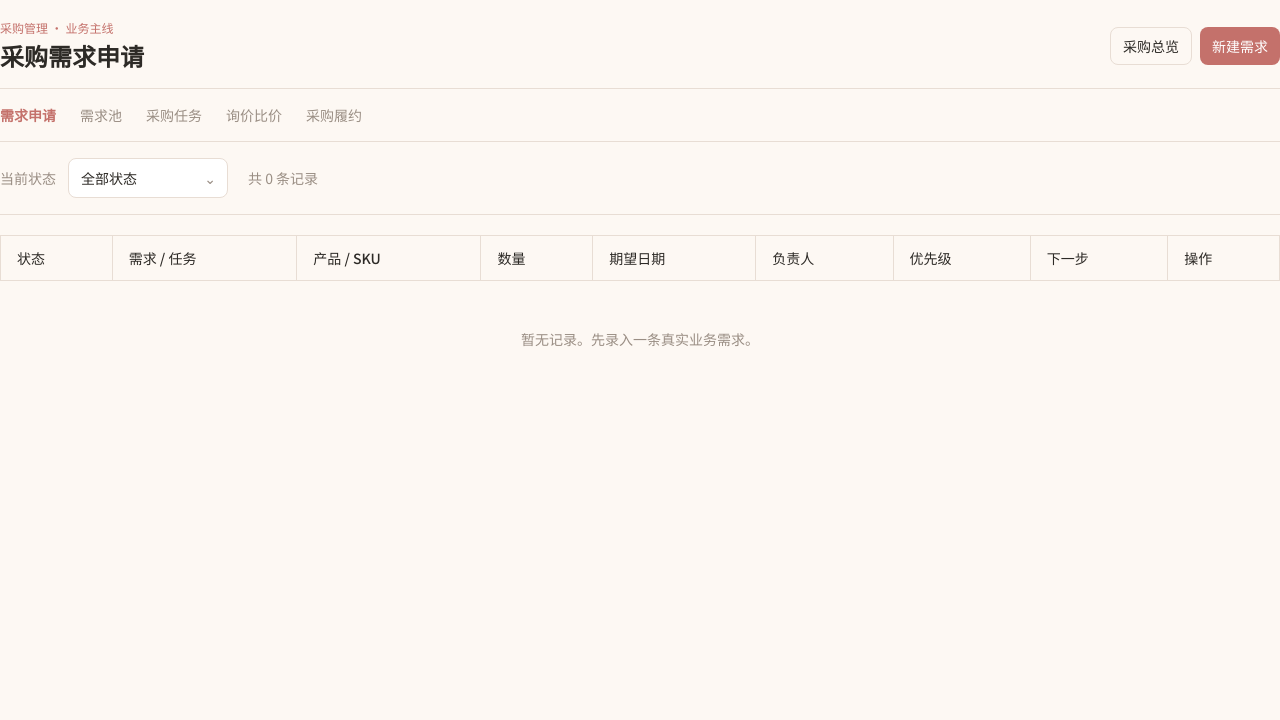
it: closes the active window when changing procurement sections
Click the button "新建需求" at (1240,46), box [1200, 27, 1279, 65]
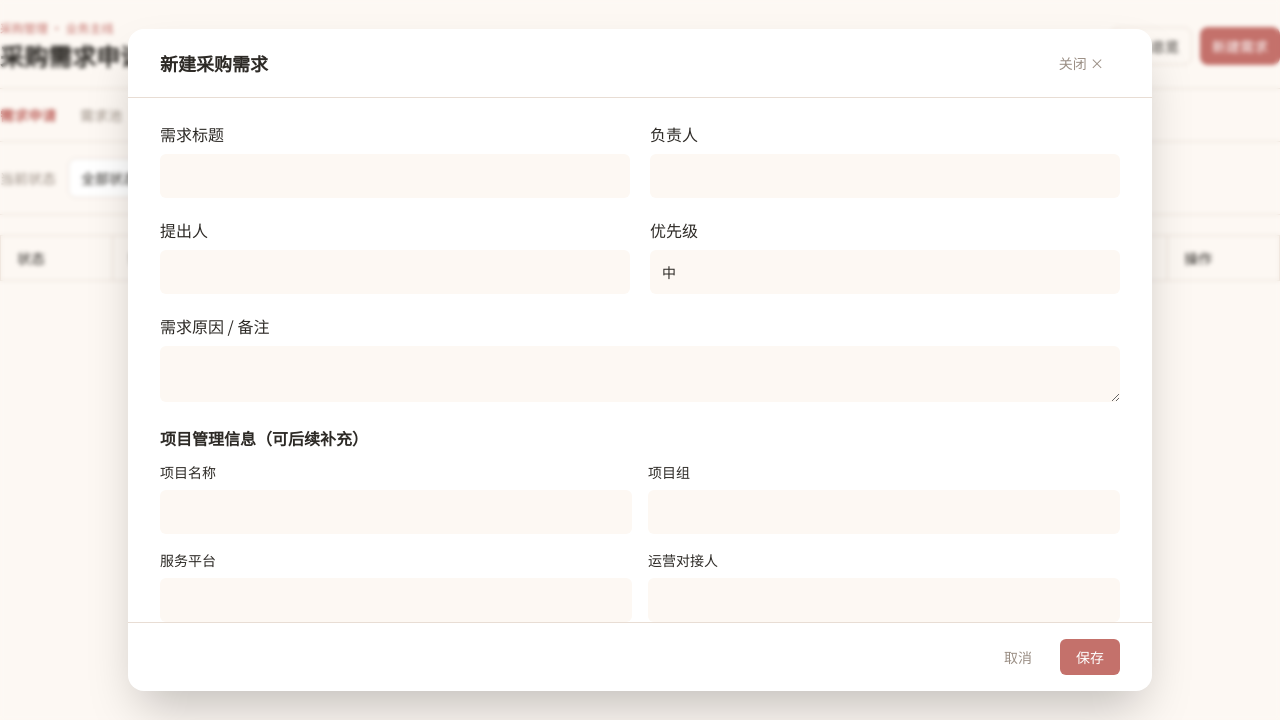
Check: the dialog is shown
